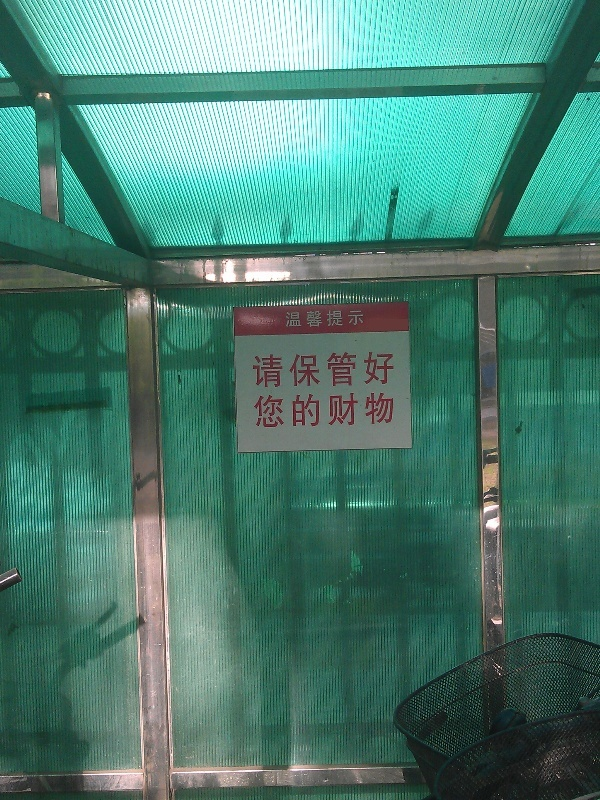text: (257, 351, 272, 388), (273, 351, 288, 388), (289, 351, 304, 388), (305, 351, 320, 388), (321, 351, 336, 388), (337, 351, 352, 388), (353, 351, 368, 388), (369, 351, 384, 388), (257, 393, 272, 429), (273, 393, 288, 429), (289, 393, 304, 429), (305, 393, 320, 429), (321, 393, 336, 429), (337, 393, 352, 429), (353, 393, 368, 429), (369, 393, 384, 429), (385, 351, 395, 388), (385, 393, 394, 429), (289, 310, 304, 328), (305, 310, 320, 328), (321, 310, 336, 328), (337, 310, 352, 328), (353, 310, 365, 328), (252, 351, 256, 388), (253, 393, 256, 429), (285, 310, 288, 328)
